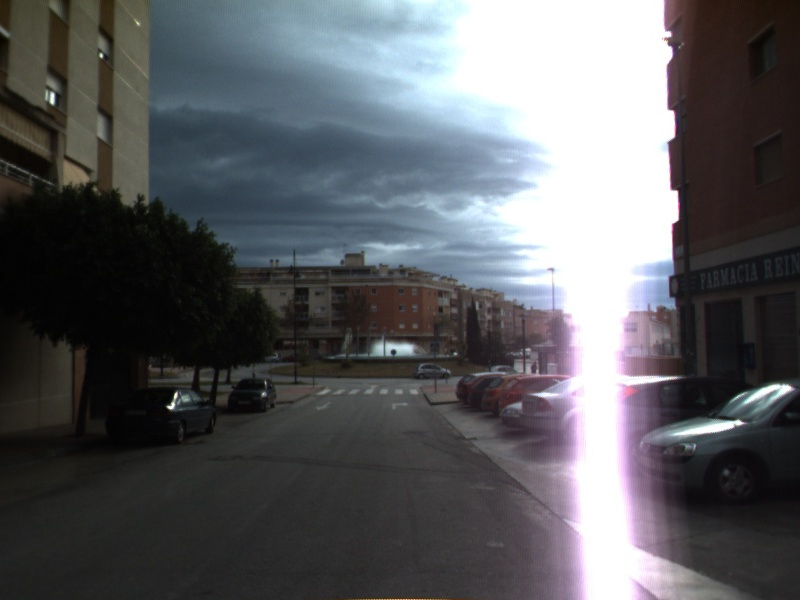RIGHT: (390, 400, 410, 412)
